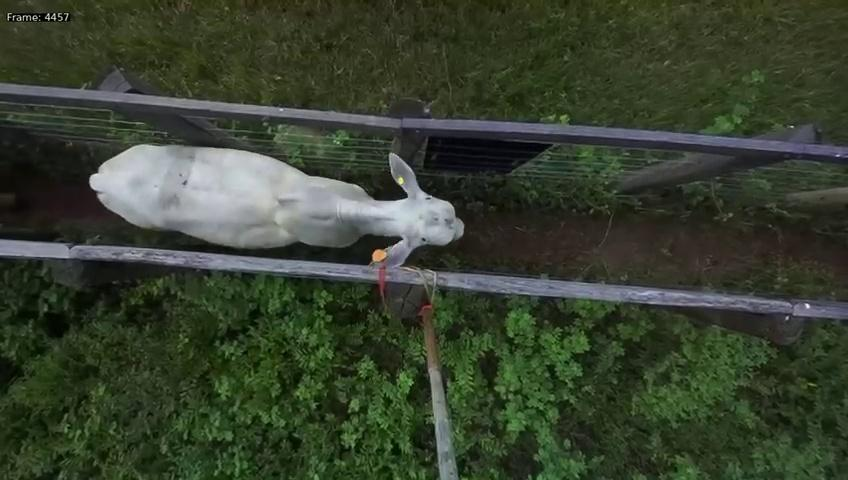cattle: (82, 136, 464, 270)
